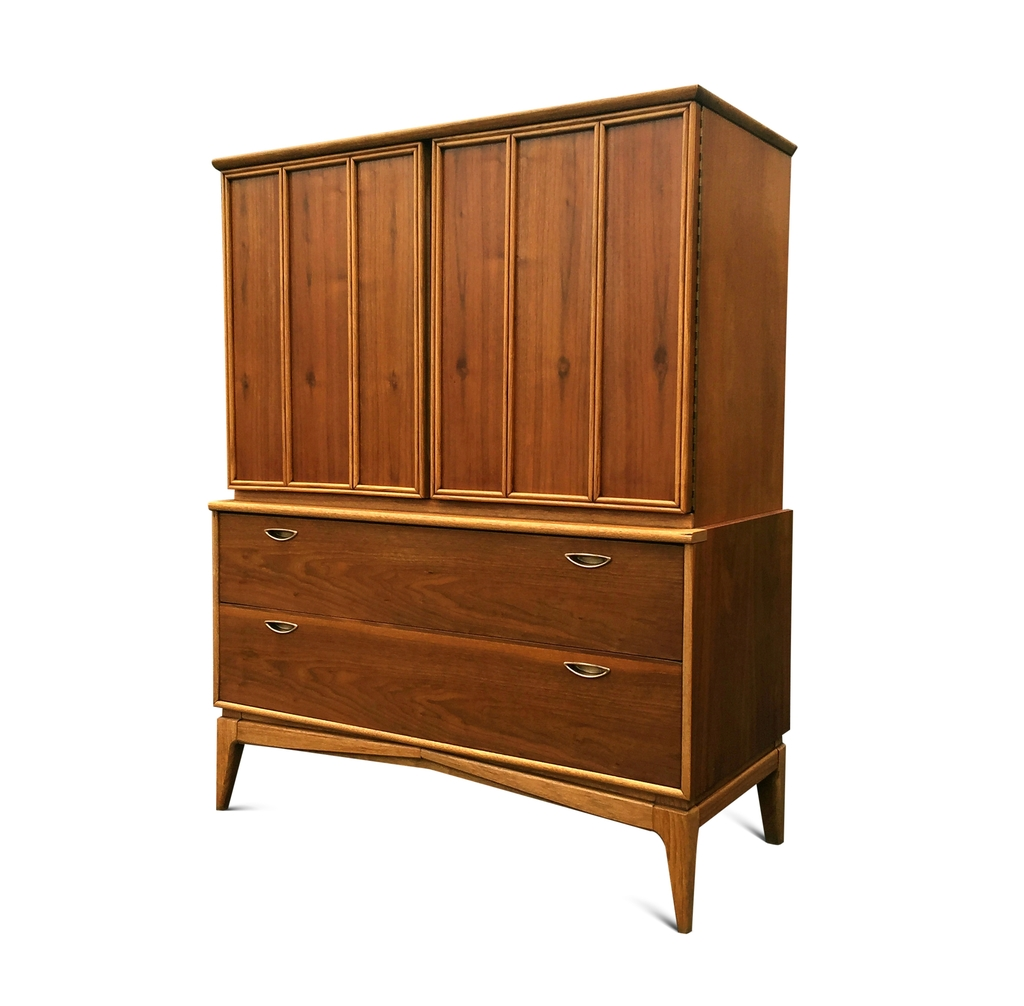cabinet door: (226, 622, 679, 774), (225, 525, 674, 636)
handle: (559, 548, 615, 583), (556, 659, 610, 686), (263, 612, 298, 646), (255, 524, 302, 545)
